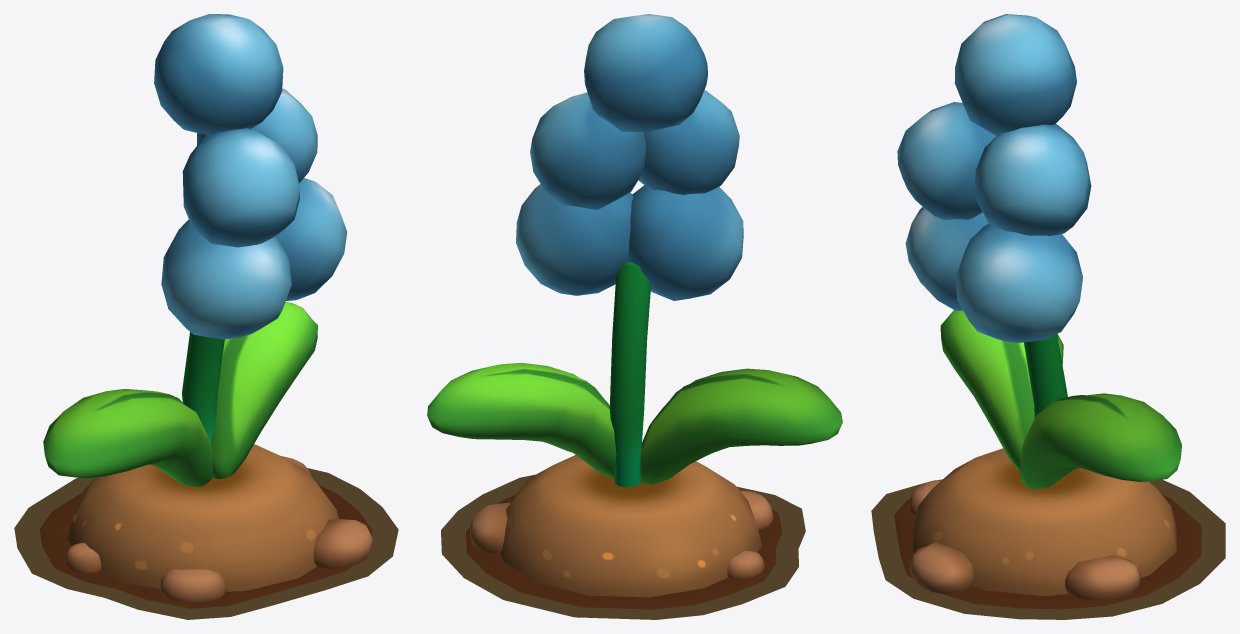
File: Flower02B_L02.fbx
3 views of the same model, side by side, from view 1: azimuth 30°, elevation 25°; view 2: azimuth 150°, elevation 25°; view 3: azimuth 270°, elevation 25° (orthographic). The views are drawn at different scales.
Visible parts, largest first — view 1: Flower02B02_body, Flower02B02SDW; view 2: Flower02B02_body, Flower02B02SDW; view 3: Flower02B02_body, Flower02B02SDW.
Boxes of the visible parts, bbox=[...] form: Flower02B02_body: bbox=[39, 14, 372, 608]; Flower02B02SDW: bbox=[14, 468, 398, 619]; Flower02B02_body: bbox=[427, 14, 842, 609]; Flower02B02SDW: bbox=[441, 474, 805, 619]; Flower02B02_body: bbox=[894, 14, 1201, 609]; Flower02B02SDW: bbox=[871, 479, 1225, 619].
Bounding box in the file's own units: 117 × 169 × 104.
2 materials, 1 textured.
